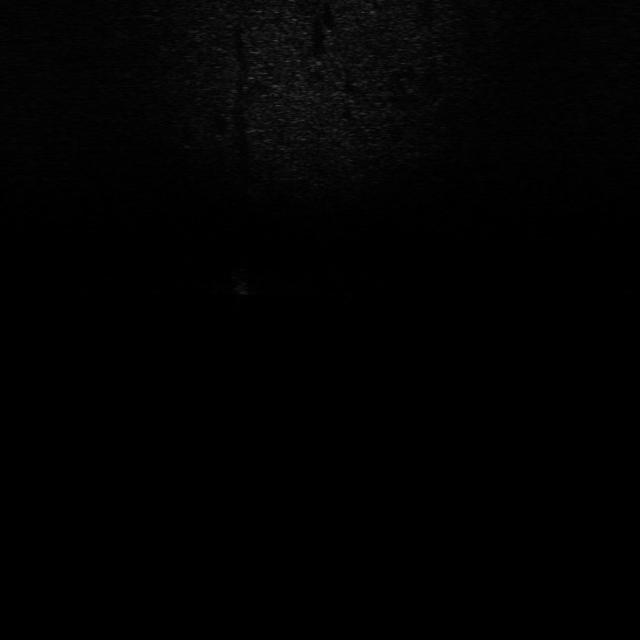human body: (224, 265, 260, 308)
